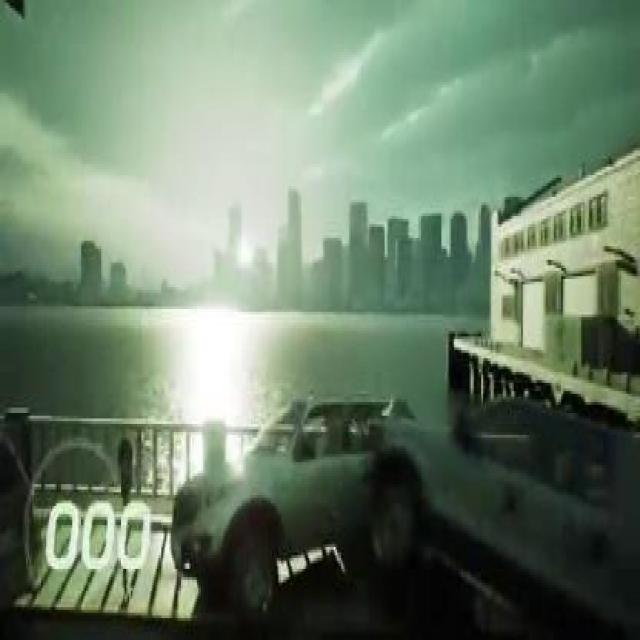accident: (162, 380, 638, 640)
